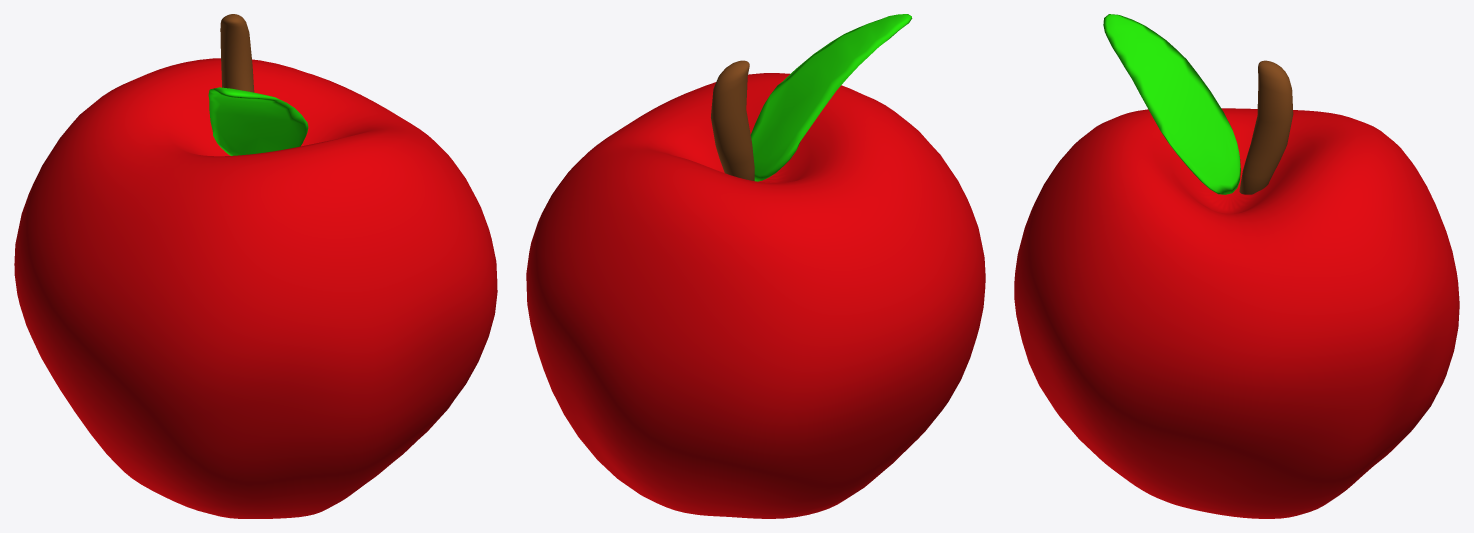
File: AppleBlend.fbx
3 renders of one model, left to right at view 1: azimuth 30°, elevation 25°; view 2: azimuth 150°, elevation 25°; view 3: azimuth 270°, elevation 25°, orthographic. The views are drawn at different scales.
Parts seen in each view (by area): view 1: Sphere; view 2: Sphere; view 3: Sphere.
Part boxes in pixels (<box>): Sphere: <box>14,14,497,518</box>; Sphere: <box>526,14,985,518</box>; Sphere: <box>1014,14,1459,518</box>.
Bounding box in the file's own units: 177 × 195 × 182.
